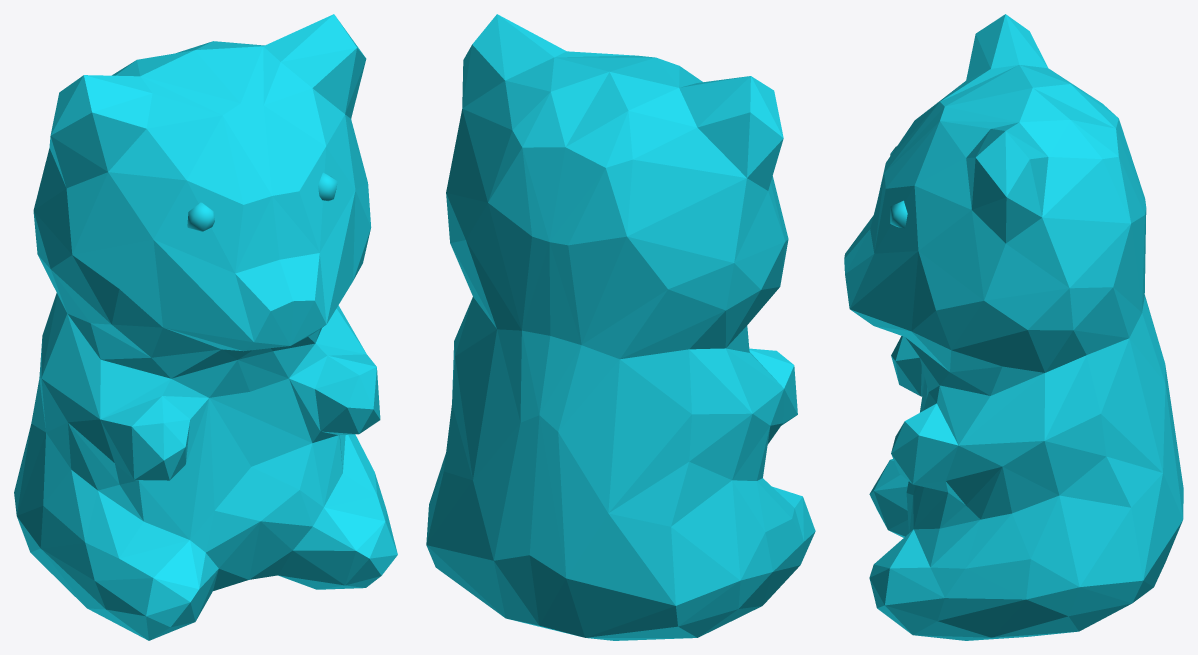
File: GummyBear.fbx
3 views of the same model, side by side, from view 1: azimuth 30°, elevation 25°; view 2: azimuth 150°, elevation 25°; view 3: azimuth 270°, elevation 25° (orthographic). The views are drawn at different scales.
Parts seen in each view (by area): view 1: GummyBear, GummyBearEyes; view 2: GummyBear; view 3: GummyBear.
Part boxes in pixels (x1,y1,x2,y2): GummyBear: [14, 14, 397, 640]; GummyBearEyes: [187, 172, 337, 231]; GummyBear: [426, 14, 815, 640]; GummyBear: [844, 14, 1183, 640].
Bounding box in the file's own units: 211 × 350 × 205.
